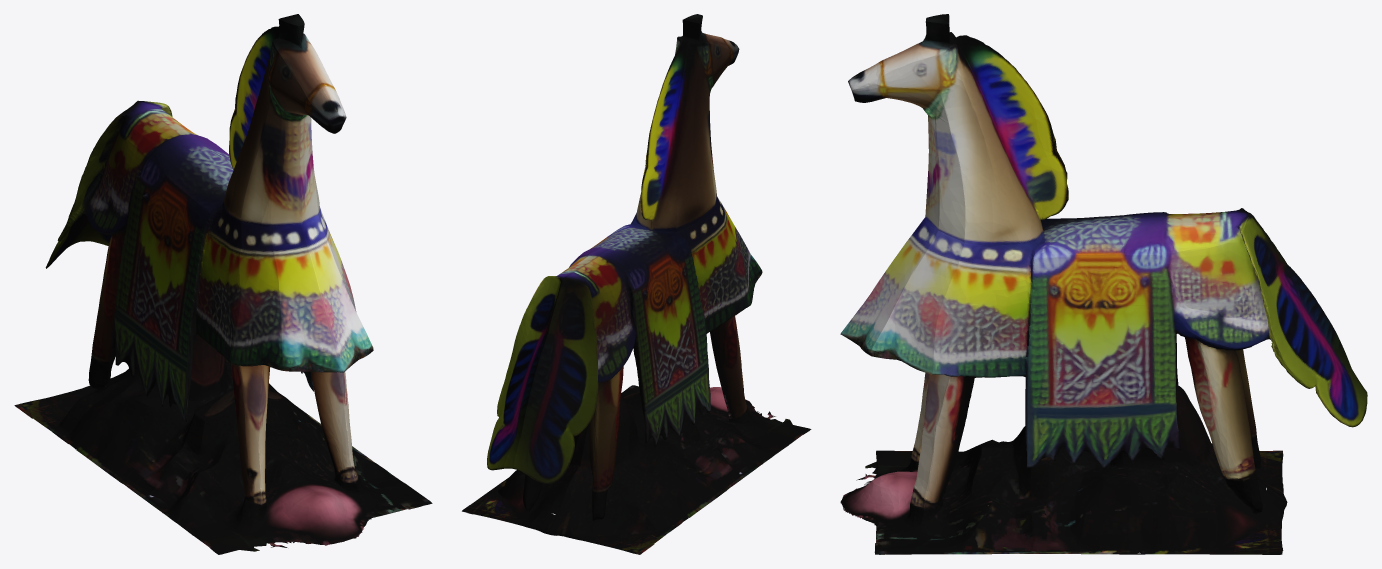
Rendered from NguaMini3d.glb.
3 renders of one model, left to right at view 1: azimuth 30°, elevation 25°; view 2: azimuth 150°, elevation 25°; view 3: azimuth 270°, elevation 25°, orthographic. The views are drawn at different scales.
Visible parts, largest first — view 1: world; view 2: world; view 3: world.
Boxes of the visible parts, x1=… form: world: x1=14, y1=14, x2=432, y2=554; world: x1=462, y1=14, x2=811, y2=554; world: x1=840, y1=14, x2=1367, y2=554.
Size of the model in its own units: 0.4609 by 1 by 0.9858.
Materials: 1 (1 with a texture image).
